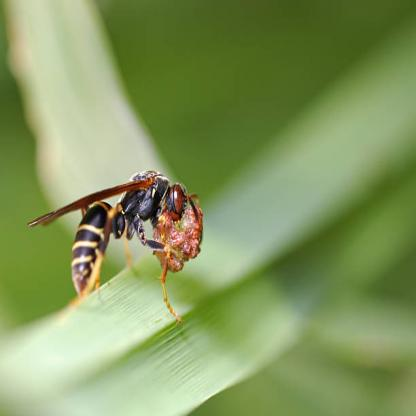sawfly: (27, 166, 192, 320)
